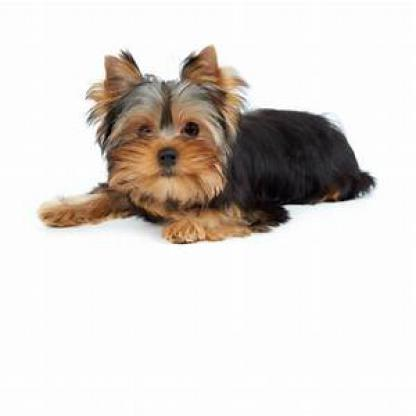dog: (36, 44, 376, 245)
